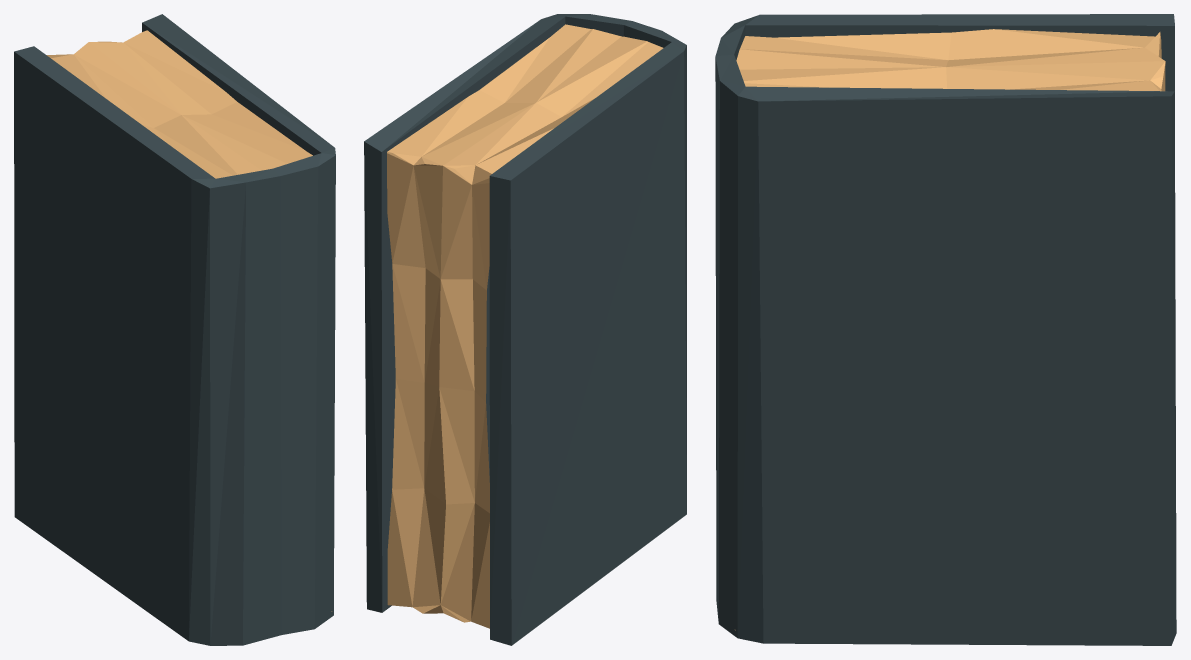
Rendered from SFHW_Book_022.fbx.
The picture shows the model from 3 angles, left to right: view 1: azimuth 30°, elevation 25°; view 2: azimuth 150°, elevation 25°; view 3: azimuth 270°, elevation 25°; orthographic projection. The views are drawn at different scales.
Parts seen in each view (by area): view 1: SFHW_Book_022; view 2: SFHW_Book_022; view 3: SFHW_Book_022.
Boxes of the visible parts, x1,y1,x2,y2 form: SFHW_Book_022: (14,14,335,645); SFHW_Book_022: (364,14,686,645); SFHW_Book_022: (715,14,1176,645).
Bounding box in the file's own units: 10.47 × 31.64 × 23.92.
